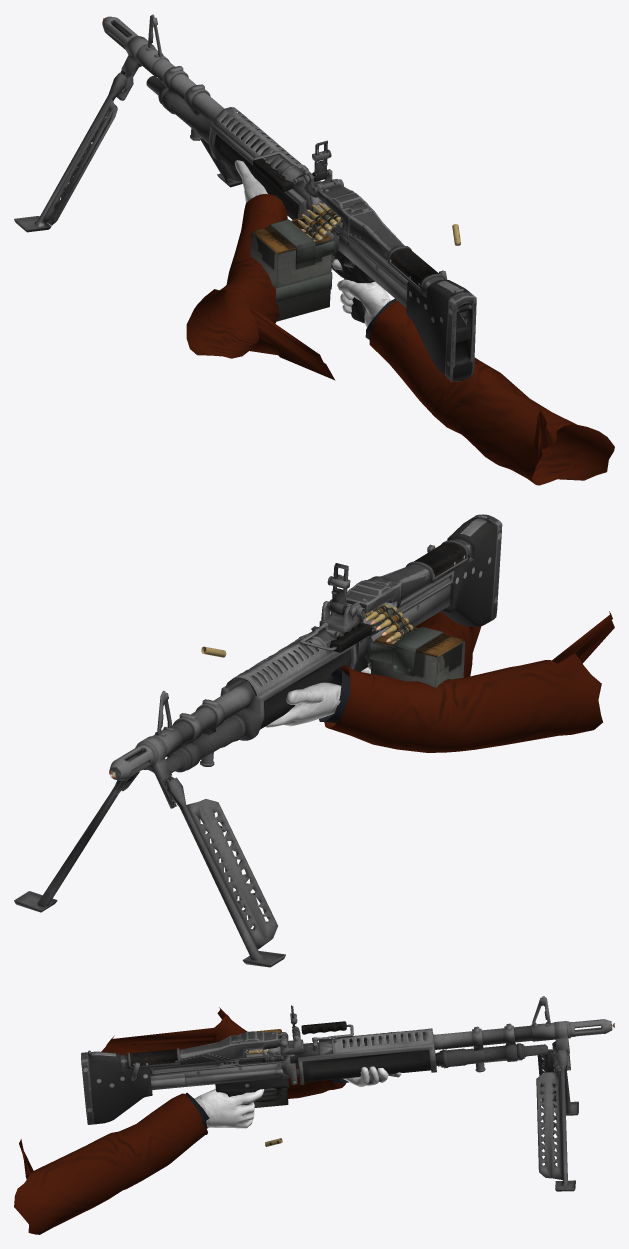
The model's file is frame_18.obj.
3 renders of one model, top to bottom at view 1: azimuth 30°, elevation 25°; view 2: azimuth 150°, elevation 25°; view 3: azimuth 270°, elevation 25°, orthographic. The views are drawn at different scales.
Parts seen in each view (by area): view 1: Mesh.005, PlayerModelMerged.001_PlayerModelMerged, Mesh.001; view 2: Mesh.005, PlayerModelMerged.001_PlayerModelMerged, Mesh.001; view 3: Mesh.005, PlayerModelMerged.001_PlayerModelMerged.
Part boxes in pixels (x1,y1,x2,y2): Mesh.005: (14,14,476,381); PlayerModelMerged.001_PlayerModelMerged: (186,160,614,485); Mesh.001: (297,202,340,241); Mesh.005: (14,514,502,967); PlayerModelMerged.001_PlayerModelMerged: (265,611,614,752); Mesh.001: (366,604,413,642); Mesh.005: (81,996,612,1191); PlayerModelMerged.001_PlayerModelMerged: (14,1007,401,1234).
Size of the model in its own units: 0.9933 by 0.7851 by 2.15.
